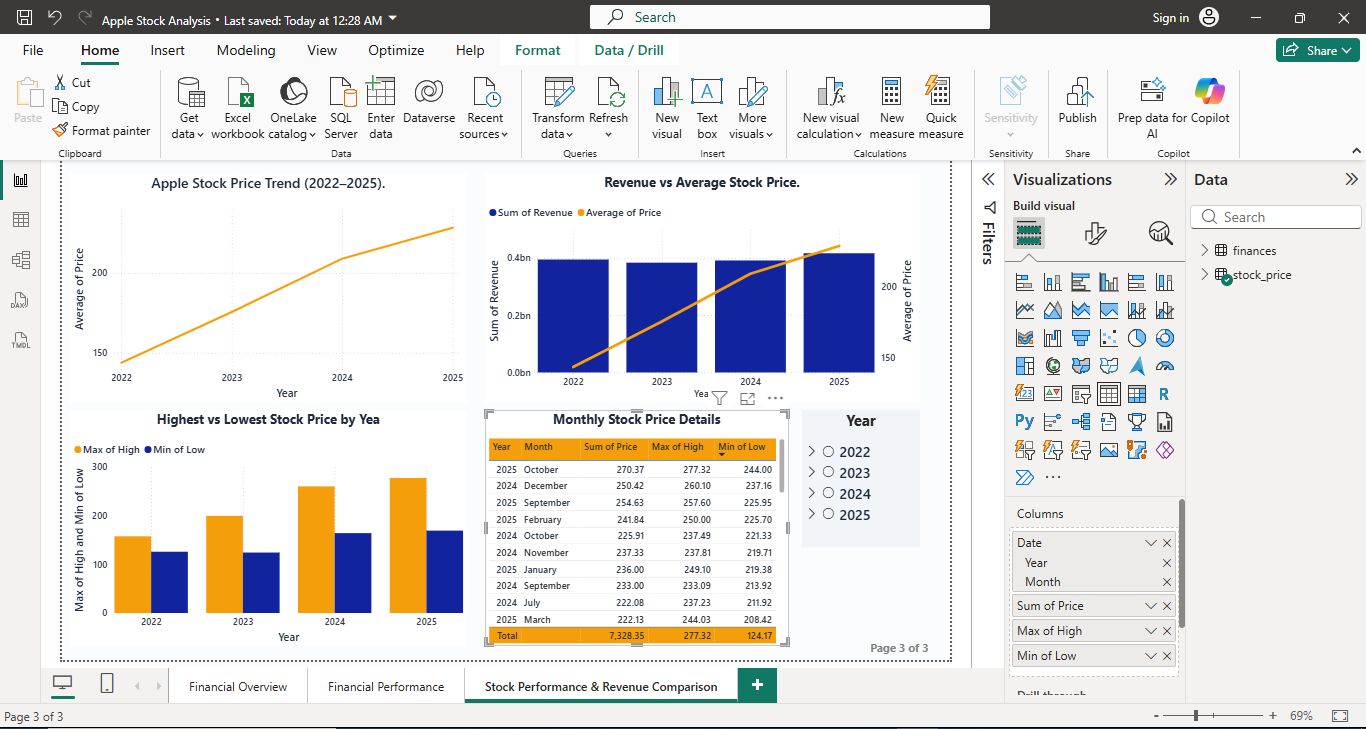

The dashboard page shown, as its layout file describes it:
{"tool":"powerbi","page":{"name":"Stock Performance & Revenue Comparison","canvas":[1280,720],"ordinal":2},"visuals":[{"type":"lineChart","title":"Apple Stock Price Trend (2022–2025).","fields":{"Category":["stock_price.Date.Variation.Date Hierarchy.Year"],"Y":["Avg(stock_price.Price)"]},"box":[11.8,18.5,571.1,330.9],"z":0},{"type":"lineClusteredColumnComboChart","title":"Revenue vs Average Stock Price.","fields":{"Category":["finances.Years"],"Y":["Sum(finances.Revenue)"],"Y2":["Avg(stock_price.Price)"]},"box":[609.8,18.5,624.9,330.9],"z":1000},{"type":"clusteredColumnChart","title":"Highest vs Lowest Stock Price by Yea","fields":{"Y":["Max(stock_price.High)","Min(stock_price.Low)"],"Category":["stock_price.Year"]},"box":[11.8,359.5,571.1,341],"z":2000},{"type":"tableEx","title":"Monthly Stock Price Details","fields":{"Values":["stock_price.Date.Variation.Date Hierarchy.Year","stock_price.Date.Variation.Date Hierarchy.Month","Sum(stock_price.Price)","Max(stock_price.High)","Min(stock_price.Low)"]},"box":[609.8,359.5,436.7,341],"z":3000},{"type":"listSlicer","fields":{"Values":["stock_price.Date.Variation.Date Hierarchy.Year","stock_price.Date.Variation.Date Hierarchy.Quarter","stock_price.Date.Variation.Date Hierarchy.Month","stock_price.Date.Variation.Date Hierarchy.Day"]},"box":[1065,359.5,169.7,198.2],"z":4000},{"type":"textbox","box":[1159.2,686.9,103.7,33.1],"z":5000}]}

Visuals, with their boxes on the page's 1280x720 design canvas (x1, y1, x2, y2). These are canvas units, not pixel positions in the 1366x729 screenshot, which may show the page scaled, cropped or inside an application window:
"Apple Stock Price Trend (2022–2025)." lineChart: (x1=12, y1=18, x2=583, y2=349)
"Revenue vs Average Stock Price." lineClusteredColumnComboChart: (x1=610, y1=18, x2=1235, y2=349)
"Highest vs Lowest Stock Price by Yea" clusteredColumnChart: (x1=12, y1=360, x2=583, y2=700)
"Monthly Stock Price Details" tableEx: (x1=610, y1=360, x2=1046, y2=700)
listSlicer - stock_price.Date.Variation.Date Hierarchy.Year x stock_price.Date.Variation.Date Hierarchy.Quarter: (x1=1065, y1=360, x2=1235, y2=558)
textbox: (x1=1159, y1=687, x2=1263, y2=720)
